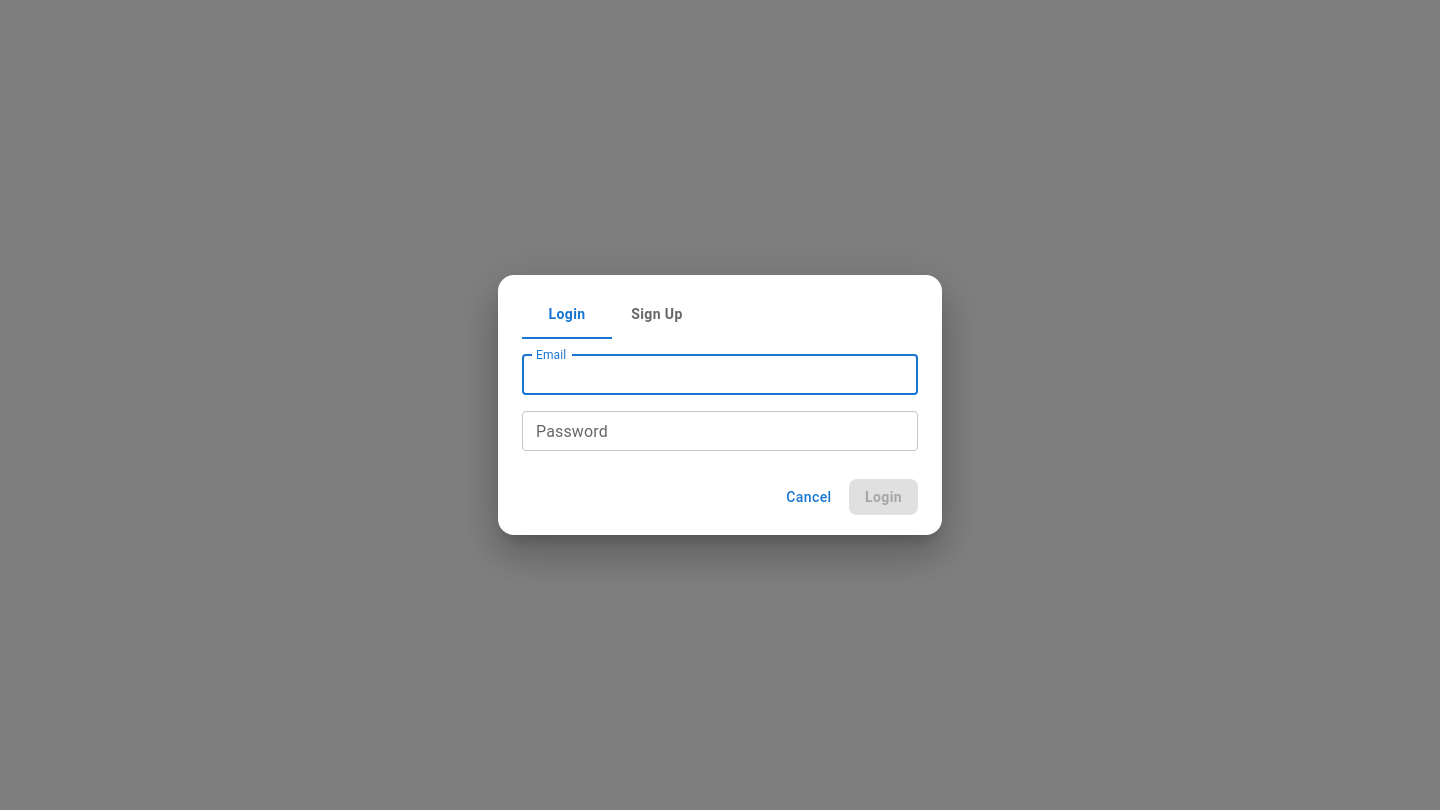
Test: LoginDialog › switches to signup tab and shows Create Account
This screenshot has width=1440, height=810.
Click the tab "Sign Up".
click(657, 315)  # box [612,291,702,339]
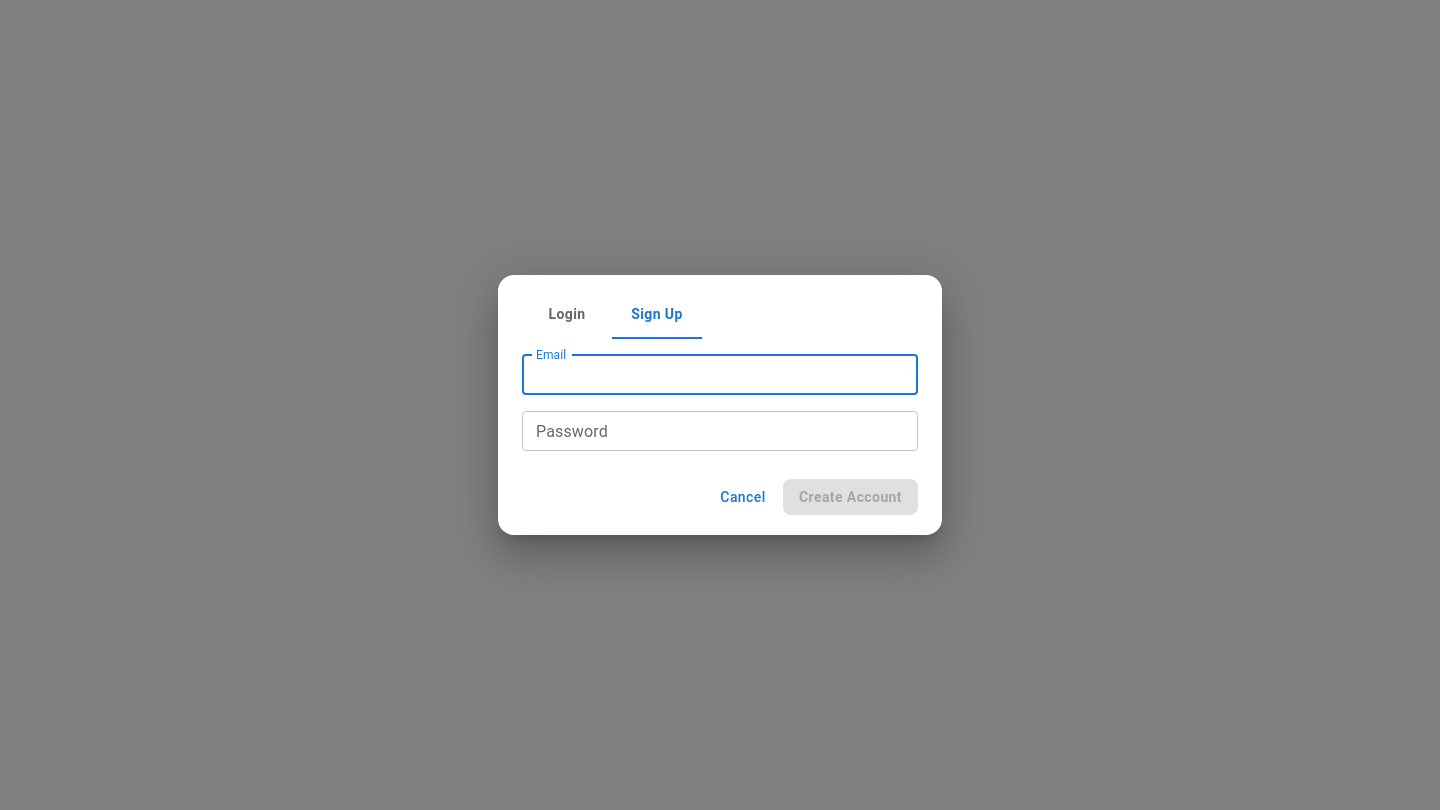
Result: the button "Create Account" is shown at [783,479,918,515]
